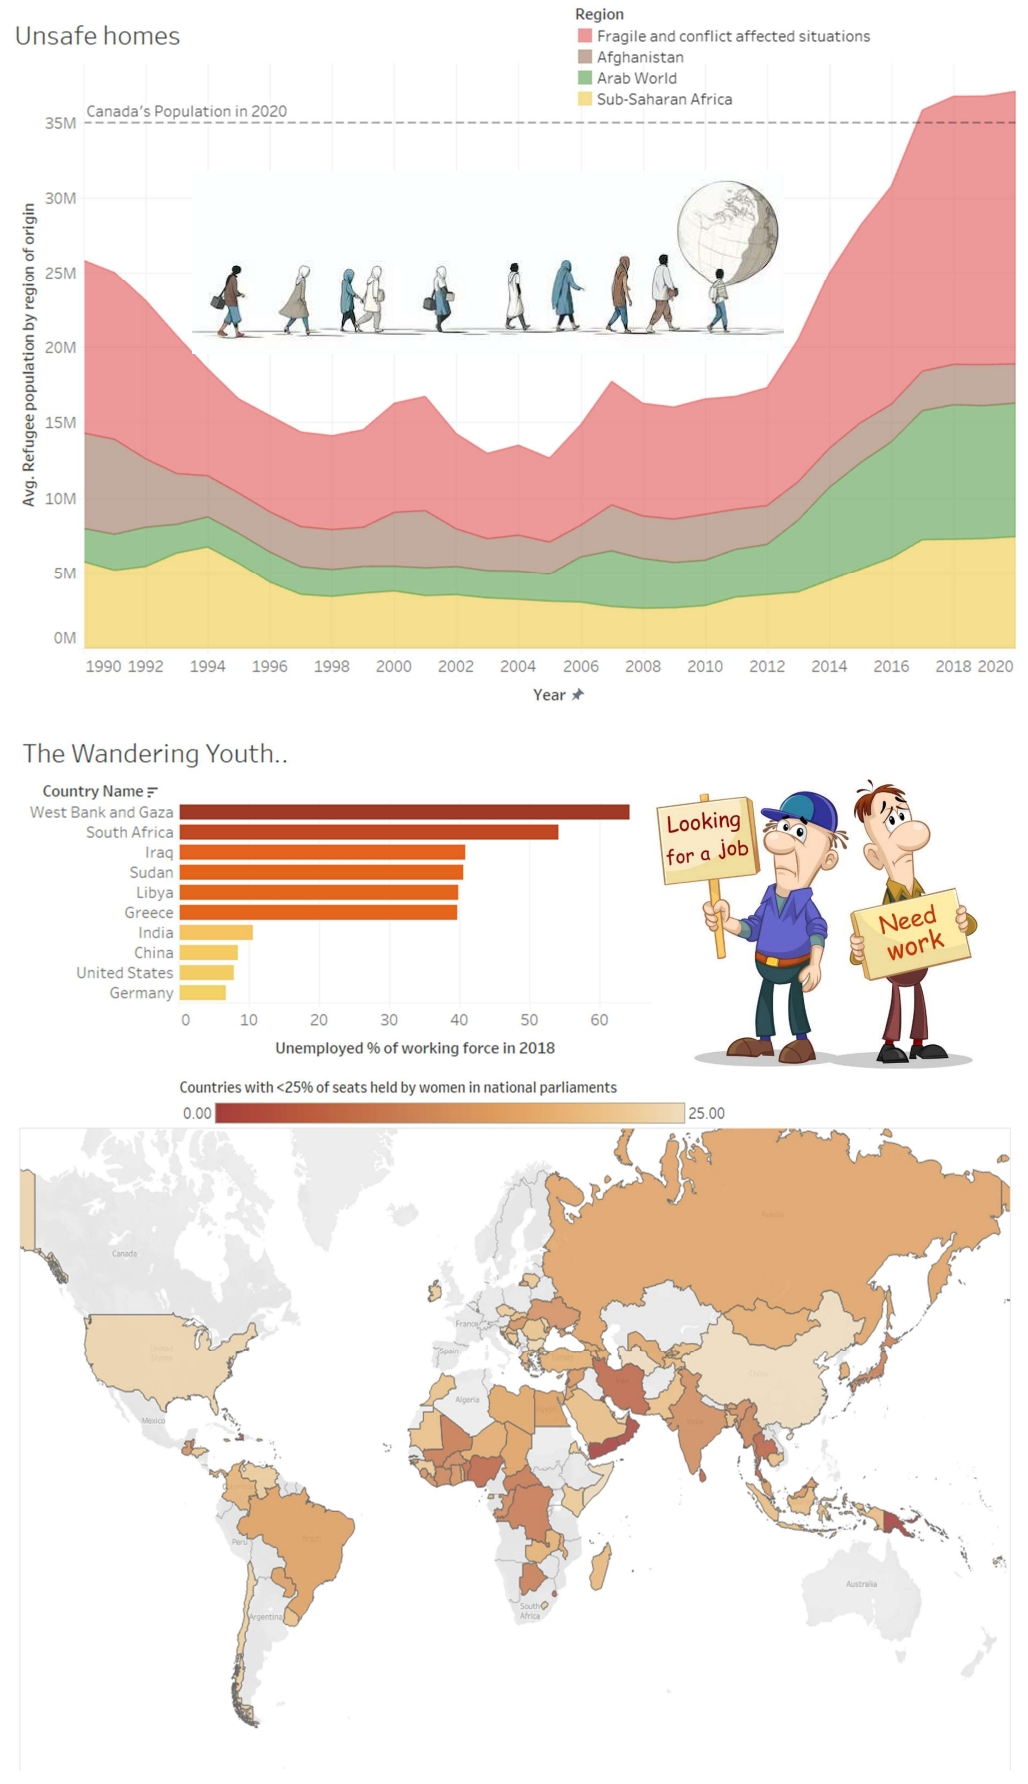

What the dashboard file says about the page in this screenshot:
{"tool":"tableau","page":{"name":"Dashboard 1","canvas":[1200,3000],"ordinal":0},"visuals":[{"type":"worksheet","title":"Sheet 2","mark":"Automatic","cols":["Year"],"box":[39,38,1146,658]},{"type":"legend","title":"Sheet 2","param":"[federated.0n542240bcx9t415v38tx0flb54p].[:Measure Names]","box":[360,39,489,85]},{"type":"legend","title":"Sheet 3","param":"[federated.0n542240bcx9t415v38tx0flb54p].[avg:average_value_Proportion of seats ","box":[543,706,446,54]},{"type":"worksheet","title":"Sheet 3","mark":"Automatic","box":[34,730,1151,627]},{"type":"worksheet","title":"Sheet 1","mark":"Automatic","cols":["Year"],"box":[37,1377,1146,533]},{"type":"legend","title":"Sheet 1","param":"[federated.0n542240bcx9t415v38tx0flb54p].[:Measure Names]","box":[606,1402,177,64]}]}

Visuals, with their boxes on the page's 1200x3000 design canvas (x1, y1, x2, y2). These are canvas units, not pixel positions in the 1028x1784 screenshot, which may show the page scaled, cropped or inside an application window:
"Sheet 2" worksheet: 39,38,1185,696
"Sheet 2" legend: 360,39,849,124
"Sheet 3" legend: 543,706,989,760
"Sheet 3" worksheet: 34,730,1185,1357
"Sheet 1" worksheet: 37,1377,1183,1910
"Sheet 1" legend: 606,1402,783,1466
